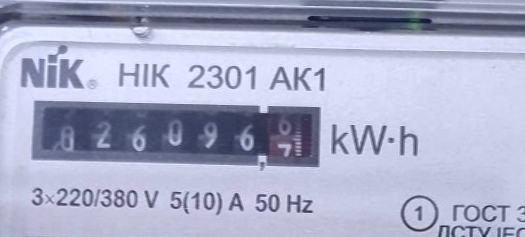0: (164, 113, 185, 149), (56, 119, 76, 151)
2: (92, 116, 114, 151)
6: (129, 119, 148, 154), (237, 118, 256, 152), (274, 109, 294, 136)
7: (275, 138, 293, 159)
9: (200, 117, 220, 150)
screen: (21, 89, 328, 177)
